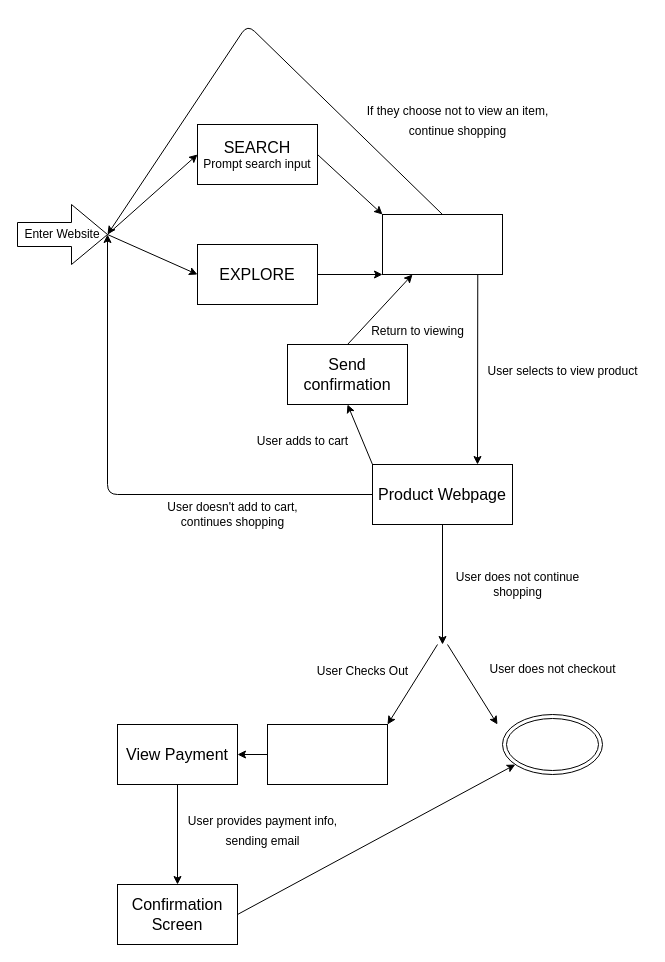
Some shapes in this 665 by 962 pixel diagram are drawn without their labels. The shapes that lost their labels are listed below. From the top down, each one's box as (x1, y1, x2, y2) in pixels, then its label:
(382, 214, 502, 274): View product
(266, 724, 388, 784): View Cart
(502, 714, 602, 774): EXIT
